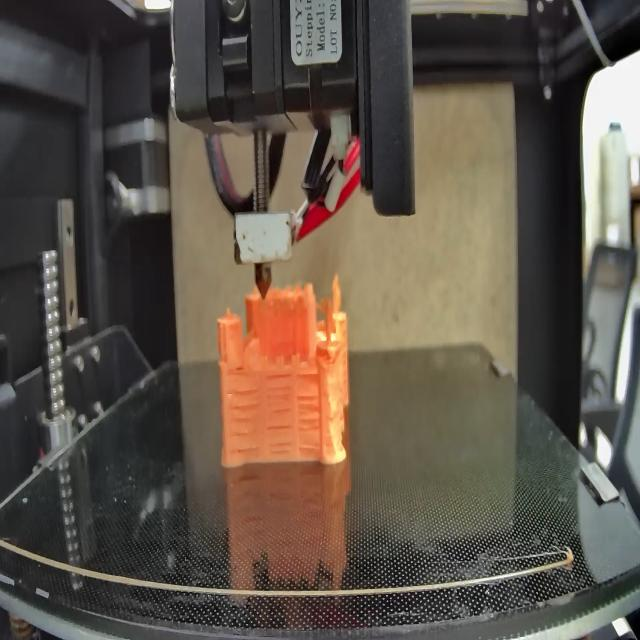cracks: (227, 385, 258, 455), (296, 394, 320, 452), (264, 371, 293, 412), (266, 420, 294, 457), (296, 366, 320, 381), (235, 360, 247, 376)
